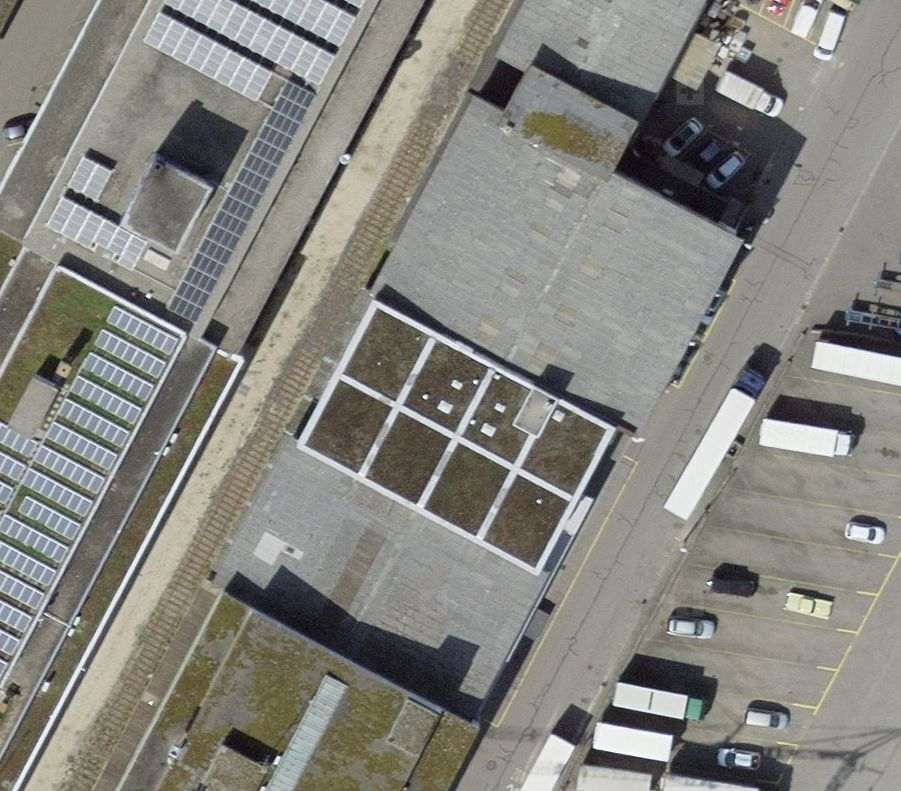solar: (46, 1, 363, 326), (1, 304, 180, 689)
